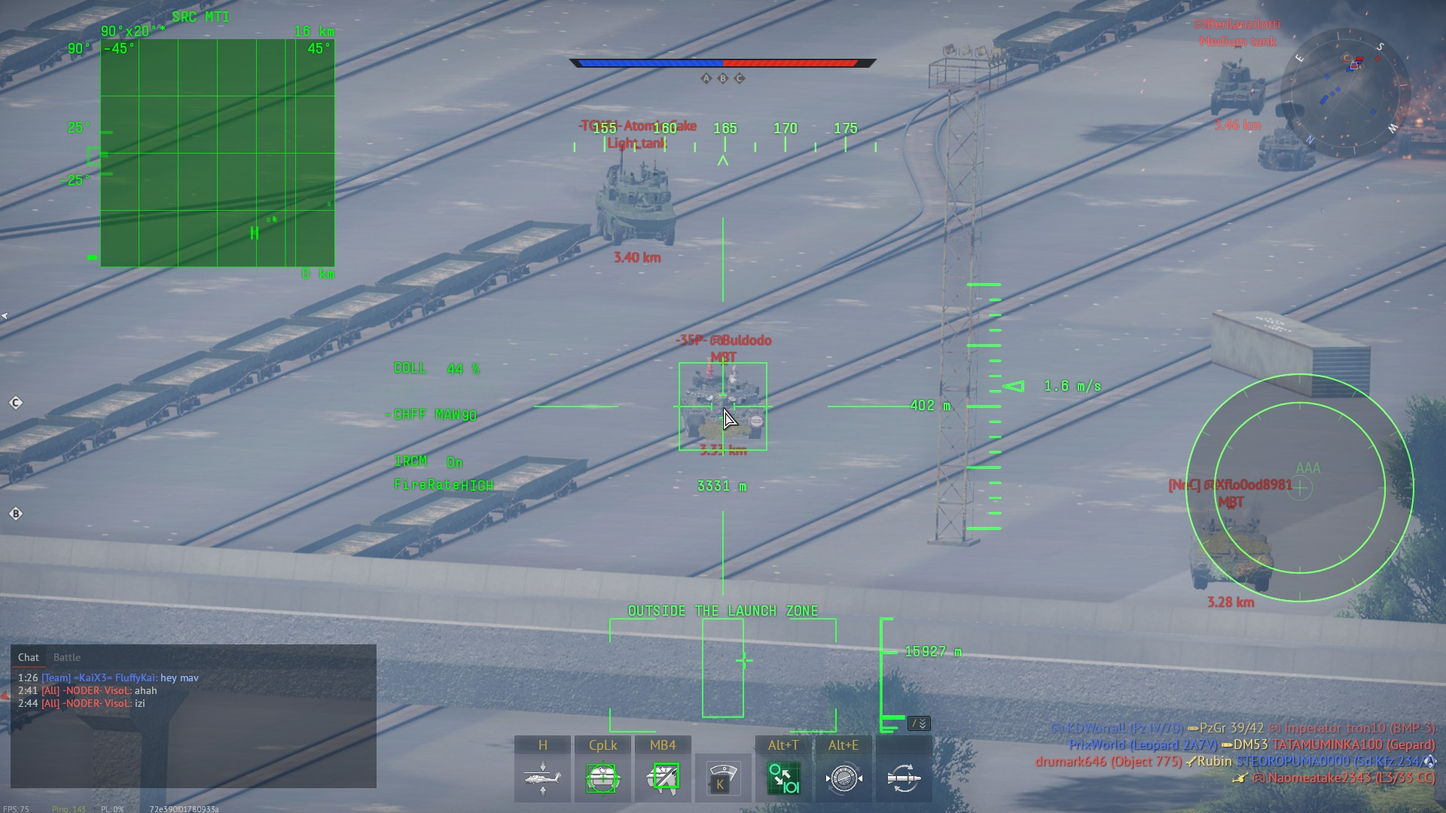t-80u: (677, 368, 765, 440)
